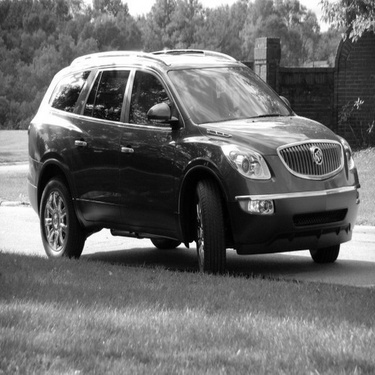car: (17, 43, 369, 275)
